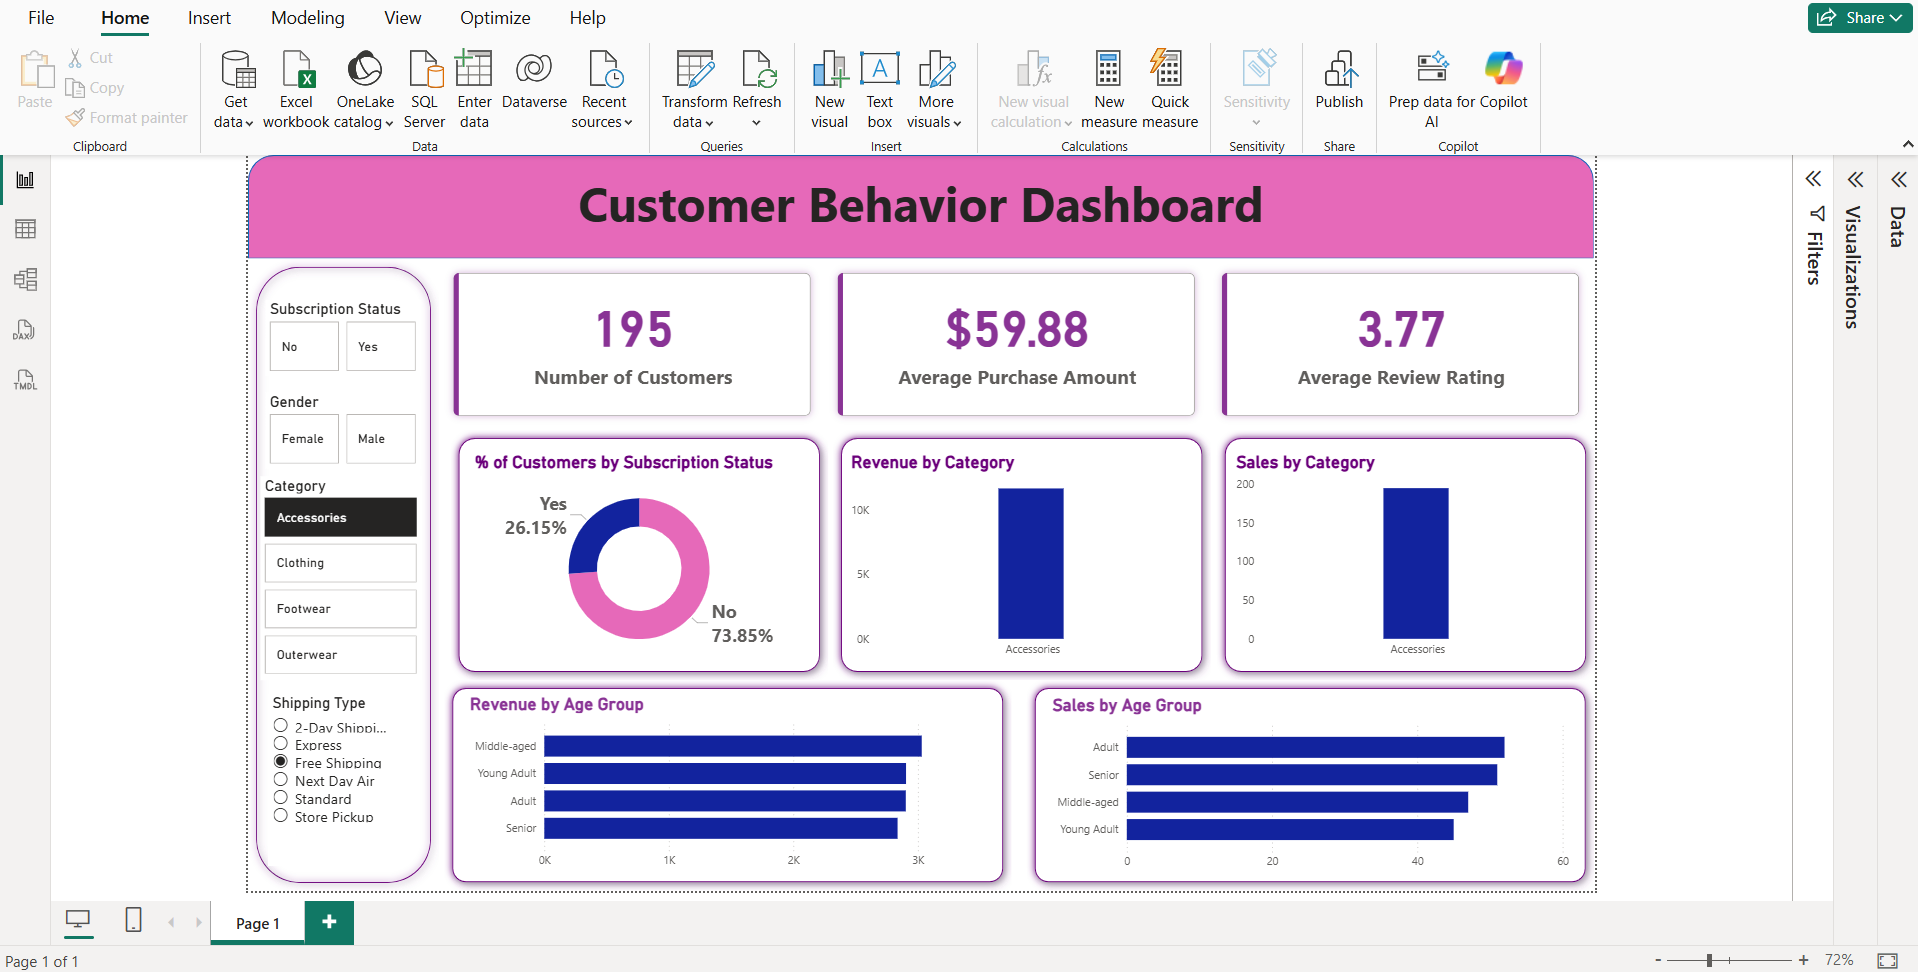

Layout of this report page (visuals, bound fields, positions):
{"tool":"powerbi","page":{"name":"Page 1","canvas":[1500,820],"ordinal":0},"visuals":[{"type":"cardVisual","fields":{"Data":["public customer.Number of Customers","public customer.Average Purchase Amount","public customer.Average Review Rating"]},"box":[212.9,115.3,1286.5,191.6],"z":2000},{"type":"shape","box":[218.3,585.6,631.7,234.2],"z":2500,"group":"g1"},{"type":"shape","box":[0,0,1499.4,115.3],"z":3000},{"type":"textbox","box":[0,12.4,1499.4,102.9],"z":4000},{"type":"shape","box":[225.4,307,420.5,278.6],"z":5000},{"type":"donutChart","title":"% of Customers by Subscription Status","fields":{"Category":["public customer.subscription_status"],"Y":["CountNonNull(public customer.customer_id)"]},"box":[248.4,331.8,376.2,237.8],"z":6000},{"type":"shape","box":[1078.9,307,420.5,278.6],"z":7000},{"type":"shape","box":[652.1,307,420.5,278.6],"z":8000},{"type":"clusteredColumnChart","title":"Revenue by Category","fields":{"Y":["Sum(public customer.purchase_amount)"],"Category":["public customer.category"]},"box":[667.2,331.8,385.1,237.8],"z":9000},{"type":"clusteredColumnChart","title":"Sales by Category","fields":{"Y":["CountNonNull(public customer.customer_id)"],"Category":["public customer.category"]},"box":[1096.6,331.8,385.1,237.8],"z":10000},{"type":"shape","box":[0,115.3,212.9,704.5],"z":11000},{"type":"advancedSlicerVisual","fields":{"Values":["public customer.subscription_status"]},"box":[19.5,161.5,173.9,85.2],"z":12000},{"type":"advancedSlicerVisual","fields":{"Values":["public customer.gender"]},"box":[19.5,264.4,173.9,85.2],"z":13000},{"type":"advancedSlicerVisual","fields":{"Values":["public customer.category"]},"box":[13.9,357.9,179.7,227],"z":14000},{"type":"listSlicer","fields":{"Values":["public customer.shipping_type"]},"box":[22.3,600.2,157.4,206.1],"z":15000},{"type":"shape","box":[867.7,585.6,631.7,234.2],"z":16000},{"type":"clusteredBarChart","title":"Sales by Age Group","fields":{"Y":["CountNonNull(public customer.customer_id)"],"Category":["public customer.age_group"]},"box":[890.8,601.5,585.6,204.1],"z":17000},{"type":"clusteredBarChart","title":"Revenue by Age Group","fields":{"Y":["Sum(public customer.purchase_amount)"],"Category":["public customer.age_group"]},"box":[241.4,601.6,585.6,204.1],"z":17500,"group":"g1"},{"type":"group","id":"g1","title":"Group 1","box":[218.3,585.6,631.7,234.2],"z":17501}]}

Visuals, with their boxes on the page's 1500x820 design canvas (x1, y1, x2, y2). These are canvas units, not pixel positions in the 1918x972 screenshot, which may show the page scaled, cropped or inside an application window:
cardVisual - public customer.Number of Customers x public customer.Average Purchase Amount: BBox(213, 115, 1499, 307)
shape: BBox(218, 586, 850, 820)
shape: BBox(0, 0, 1499, 115)
textbox: BBox(0, 12, 1499, 115)
shape: BBox(225, 307, 646, 586)
"% of Customers by Subscription Status" donutChart: BBox(248, 332, 625, 570)
shape: BBox(1079, 307, 1499, 586)
shape: BBox(652, 307, 1073, 586)
"Revenue by Category" clusteredColumnChart: BBox(667, 332, 1052, 570)
"Sales by Category" clusteredColumnChart: BBox(1097, 332, 1482, 570)
shape: BBox(0, 115, 213, 820)
advancedSlicerVisual - public customer.subscription_status: BBox(20, 162, 193, 247)
advancedSlicerVisual - public customer.gender: BBox(20, 264, 193, 350)
advancedSlicerVisual - public customer.category: BBox(14, 358, 194, 585)
listSlicer - public customer.shipping_type: BBox(22, 600, 180, 806)
shape: BBox(868, 586, 1499, 820)
"Sales by Age Group" clusteredBarChart: BBox(891, 602, 1476, 806)
"Revenue by Age Group" clusteredBarChart: BBox(241, 602, 827, 806)
"Group 1" group: BBox(218, 586, 850, 820)
